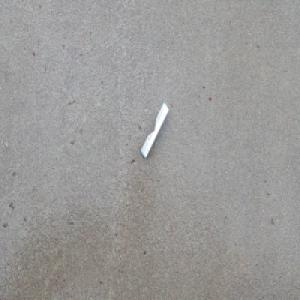ClampPart: (139, 100, 170, 160)
